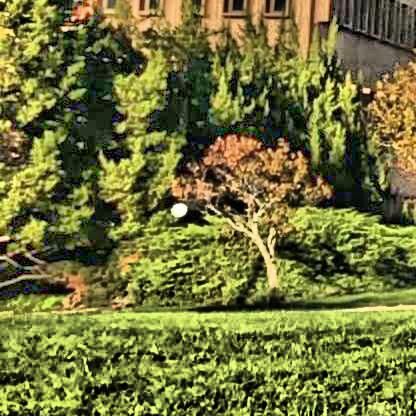golfball: (167, 198, 186, 215)
